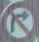Don't turn right: (2, 2, 34, 41)
